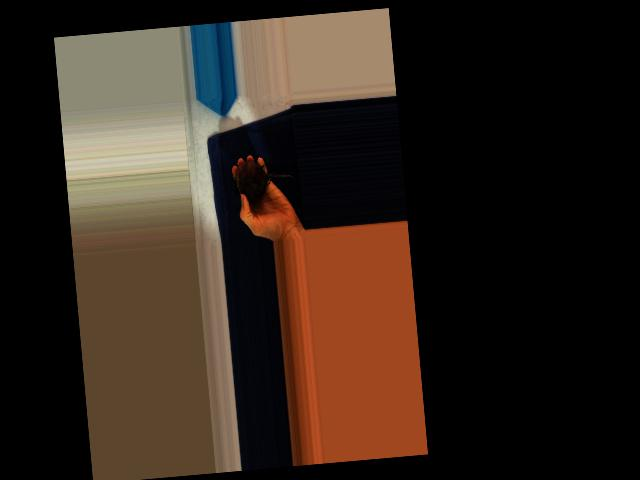beet: (229, 156, 297, 202)
